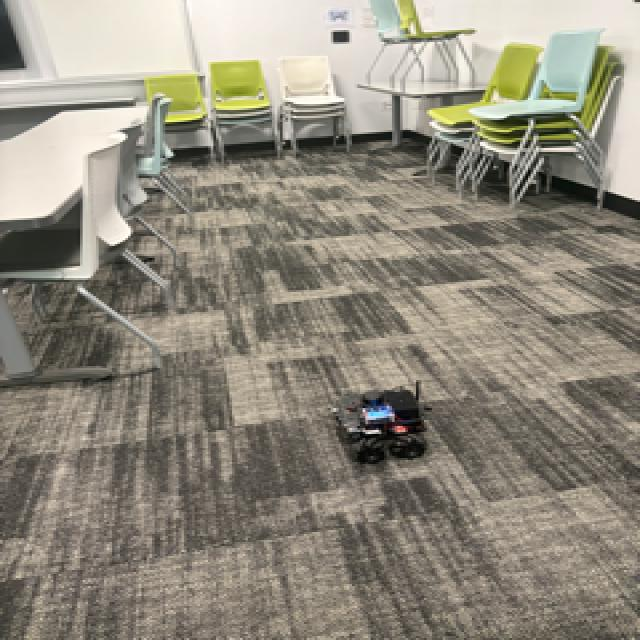ArduinoCar3: (338, 383, 436, 461)
